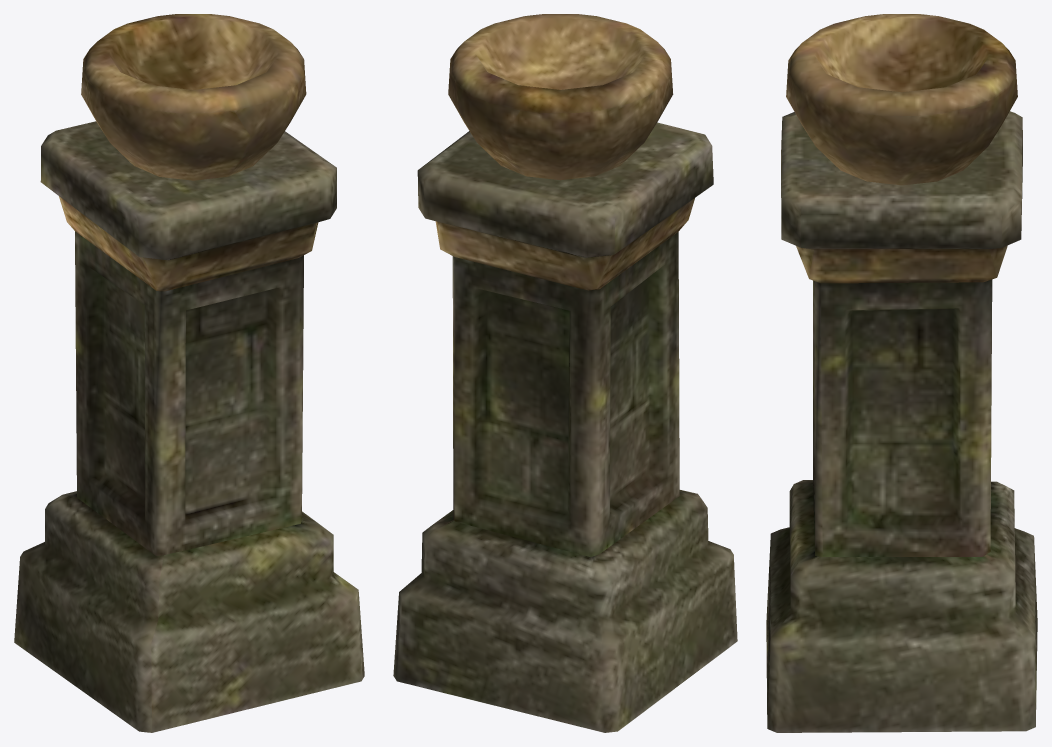
File: Lantern_QuadPillar_uncover-transformed.glb
The picture shows the model from 3 angles, left to right: view 1: azimuth 30°, elevation 25°; view 2: azimuth 150°, elevation 25°; view 3: azimuth 270°, elevation 25°; orthographic projection. The views are drawn at different scales.
Visible parts, largest first — view 1: default; view 2: default; view 3: default.
Boxes of the visible parts, left/top/right/bottom form: default: left=14, top=14, right=364, bottom=732; default: left=393, top=14, right=737, bottom=732; default: left=766, top=14, right=1037, bottom=732.
Bounding box in the file's own units: 0.6441 × 1.63 × 0.6424.
1 material, 1 textured.
